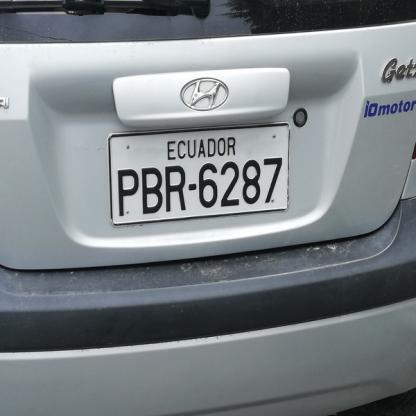Placa: (106, 130, 289, 218)
